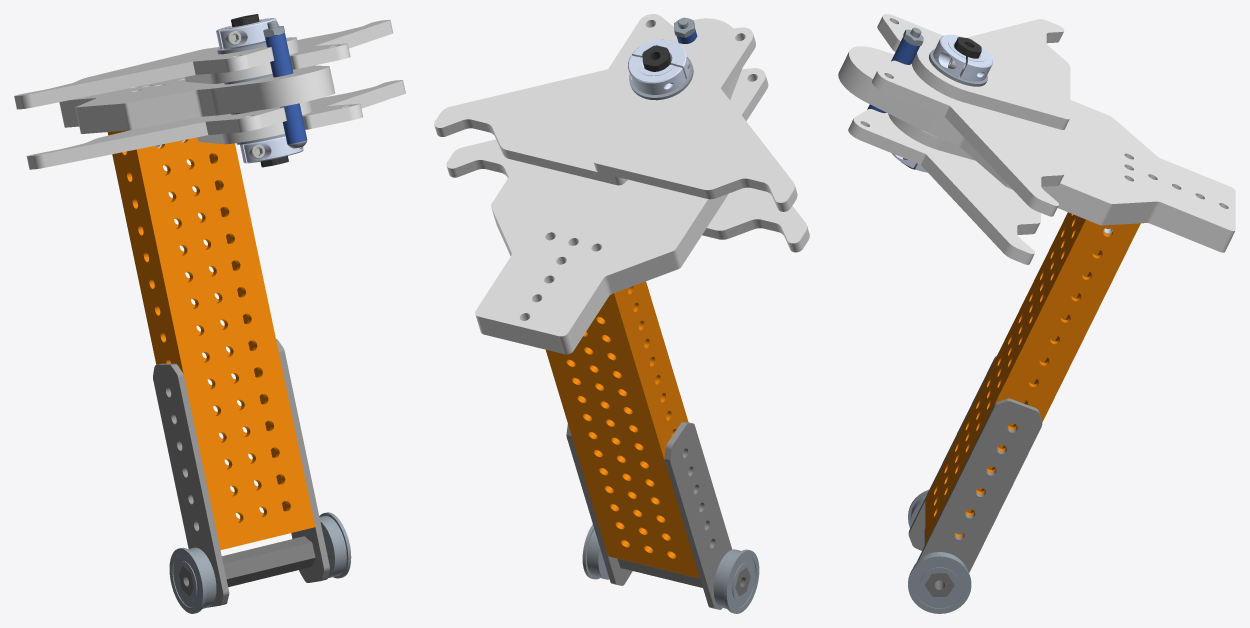
3 renders of one model, left to right at view 1: azimuth 30°, elevation 25°; view 2: azimuth 150°, elevation 25°; view 3: azimuth 270°, elevation 25°, orthographic. The views are drawn at different scales.
Visible parts, largest first — view 1: Tube 2"x1"x8", CR-A-001-0.125"-Aluminum 6061"-CNC (×2), Barb Body_1, Barb Finger_2, Barb Finger_3, Barb Body, .5" Hex ID 1.125" OD Flanged Bearing (217-2734) (×2), Barb Finger, Barb Finger_1, 1/2" Hex (3.125 in), 1/2" Hex High Strength Clamping Shaft Collar (217-4106)_1, 1/2" Hex High Strength Clamping Shaft Collar (217-4106) (+2 smaller); view 2: Barb Body_1, Tube 2"x1"x8", Barb Finger_2, Barb Finger, CR-A-001-0.125"-Aluminum 6061"-CNC (×2), Barb Finger_3, .5" Hex ID 1.125" OD Flanged Bearing (217-2734) (×2), Barb Body, 1/2" Hex High Strength Clamping Shaft Collar (217-4106)_1 (×2), Barb Finger_1, 1/2" Hex (3.125 in), Shaft; view 3: Tube 2"x1"x8", Barb Body_1, Barb Finger_2, CR-A-001-0.125"-Aluminum 6061"-CNC (×2), Barb Finger, Barb Finger_1, Barb Body, .5" Hex ID 1.125" OD Flanged Bearing (217-2734), 1/2" Hex High Strength Clamping Shaft Collar (217-4106)_1 (×2), Barb Finger_3, 1/2" Hex (3.125 in).
Part boxes in pixels (x1,y1,x2,y2): Tube 2"x1"x8": [107, 130, 315, 549]; CR-A-001-0.125"-Aluminum 6061"-CNC (×2): [153, 339, 329, 607]; Barb Body_1: [59, 65, 332, 120]; Barb Finger_2: [14, 37, 299, 109]; Barb Finger_3: [26, 101, 312, 169]; Barb Body: [62, 80, 335, 133]; .5" Hex ID 1.125" OD Flanged Bearing (217-2734) (×2): [169, 512, 351, 613]; Barb Finger: [185, 19, 392, 83]; Barb Finger_1: [197, 80, 405, 144]; 1/2" Hex (3.125 in): [178, 536, 327, 595]; 1/2" Hex High Strength Clamping Shaft Collar (217-4106)_1: [220, 18, 276, 49]; 1/2" Hex High Strength Clamping Shaft Collar (217-4106): [244, 136, 303, 163]; Barb Body_1: [475, 18, 732, 345]; Tube 2"x1"x8": [546, 281, 699, 578]; Barb Finger_2: [593, 27, 797, 211]; Barb Finger: [434, 14, 678, 185]; CR-A-001-0.125"-Aluminum 6061"-CNC (×2): [566, 422, 732, 609]; Barb Finger_3: [702, 68, 809, 252]; .5" Hex ID 1.125" OD Flanged Bearing (217-2734) (×2): [582, 524, 759, 613]; Barb Body: [478, 68, 742, 354]; 1/2" Hex High Strength Clamping Shaft Collar (217-4106)_1 (×2): [628, 39, 689, 94]; Barb Finger_1: [446, 139, 518, 177]; 1/2" Hex (3.125 in): [617, 558, 750, 596]; Shaft: [642, 45, 670, 71]; Tube 2"x1"x8": [925, 212, 1140, 543]; Barb Body_1: [843, 46, 1235, 241]; Barb Finger_2: [877, 14, 1070, 129]; CR-A-001-0.125"-Aluminum 6061"-CNC (×2): [908, 356, 1042, 572]; Barb Finger: [872, 60, 1064, 216]; Barb Finger_1: [848, 109, 1040, 264]; Barb Body: [838, 62, 1229, 252]; .5" Hex ID 1.125" OD Flanged Bearing (217-2734): [908, 552, 971, 613]; 1/2" Hex High Strength Clamping Shaft Collar (217-4106)_1 (×2): [933, 34, 992, 81]; Barb Finger_3: [888, 113, 975, 160]; 1/2" Hex (3.125 in): [924, 529, 954, 596].
Bounding box in the file's own units: 0.1959 × 0.2987 × 0.1947.
